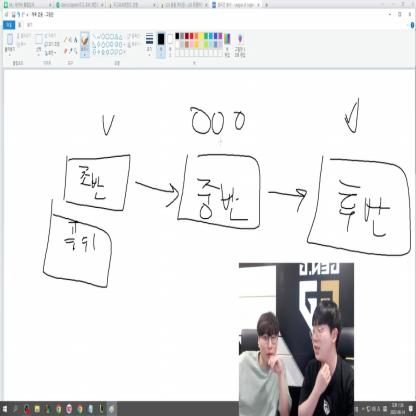streamer: (298, 299, 354, 416), (239, 312, 292, 416)
